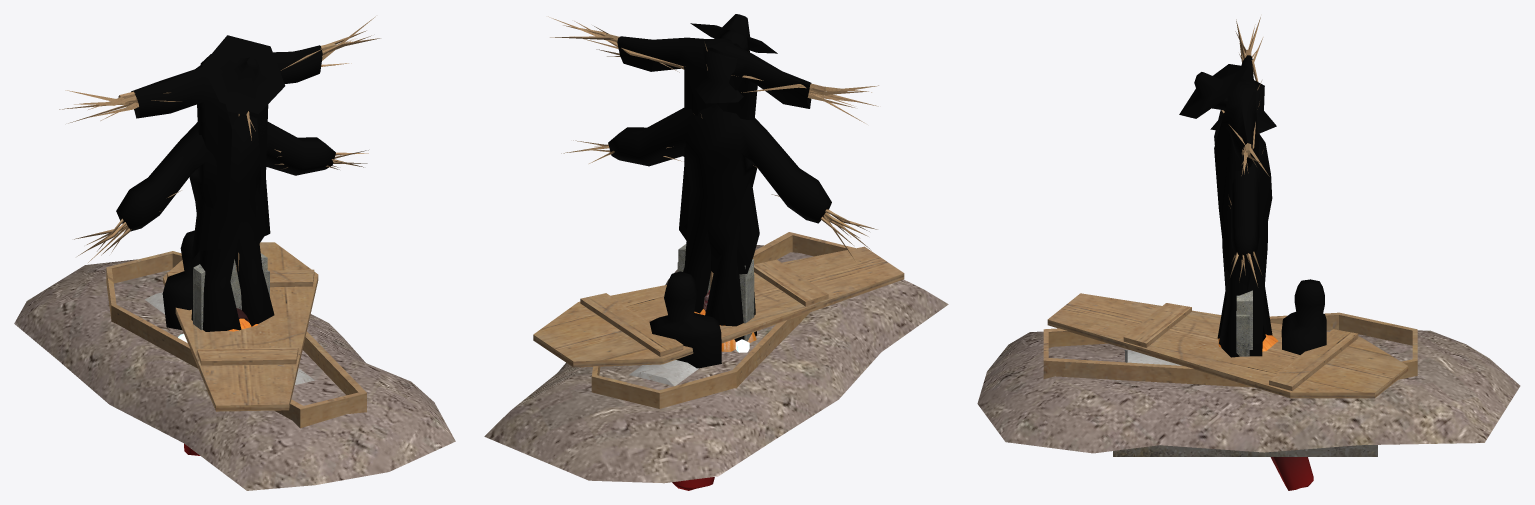
The model's file is Halloween.fbx.
The picture shows the model from 3 angles, left to right: view 1: azimuth 30°, elevation 25°; view 2: azimuth 150°, elevation 25°; view 3: azimuth 270°, elevation 25°; orthographic projection. The views are drawn at different scales.
Parts seen in each view (by area): view 1: Farmland, Scarecrow_01, Scarecrow, Coffin_Top_01, Coffin_01, Body.001, Stone_04; view 2: Farmland, Scarecrow_01, Coffin_Top_01, Scarecrow, Coffin_01, Body.001, Stone_08, Stone_05; view 3: Farmland, Coffin_Top_01, Scarecrow_01, Scarecrow, Coffin_01, Stone_08, Body.001, Ghost, Stone_04.
Boxes of the visible parts, box(x1,y1,x2,y2) form: Farmland: box(14, 259, 455, 490); Scarecrow_01: box(74, 54, 368, 331); Scarecrow: box(59, 16, 380, 275); Coffin_Top_01: box(163, 242, 318, 411); Coffin_01: box(106, 251, 366, 428); Body.001: box(162, 230, 194, 330); Stone_04: box(194, 270, 269, 330); Farmland: box(484, 245, 948, 483); Scarecrow_01: box(561, 43, 877, 341); Coffin_Top_01: box(533, 246, 904, 367); Scarecrow: box(548, 14, 878, 288); Coffin_01: box(591, 232, 855, 408); Body.001: box(649, 271, 721, 368); Stone_08: box(629, 360, 698, 386); Stone_05: box(678, 244, 753, 341); Farmland: box(977, 330, 1520, 453); Coffin_Top_01: box(1047, 293, 1408, 398); Scarecrow_01: box(1210, 80, 1276, 357); Scarecrow: box(1179, 17, 1269, 292); Coffin_01: box(1043, 312, 1417, 387); Stone_08: box(1113, 350, 1377, 456); Body.001: box(1281, 279, 1326, 354); Ghost: box(1270, 457, 1313, 490); Stone_04: box(1236, 311, 1249, 356).
Size of the model in its own units: 2.61 by 3.33 by 3.9.
